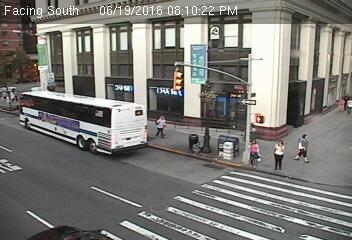neg: (196, 74, 221, 107), (187, 135, 211, 168), (45, 65, 63, 90), (67, 212, 84, 235), (61, 113, 77, 135), (134, 105, 149, 125), (41, 111, 54, 128), (94, 82, 106, 98)
pos: (265, 135, 295, 176), (295, 131, 319, 164), (243, 137, 267, 170), (150, 112, 172, 142)
